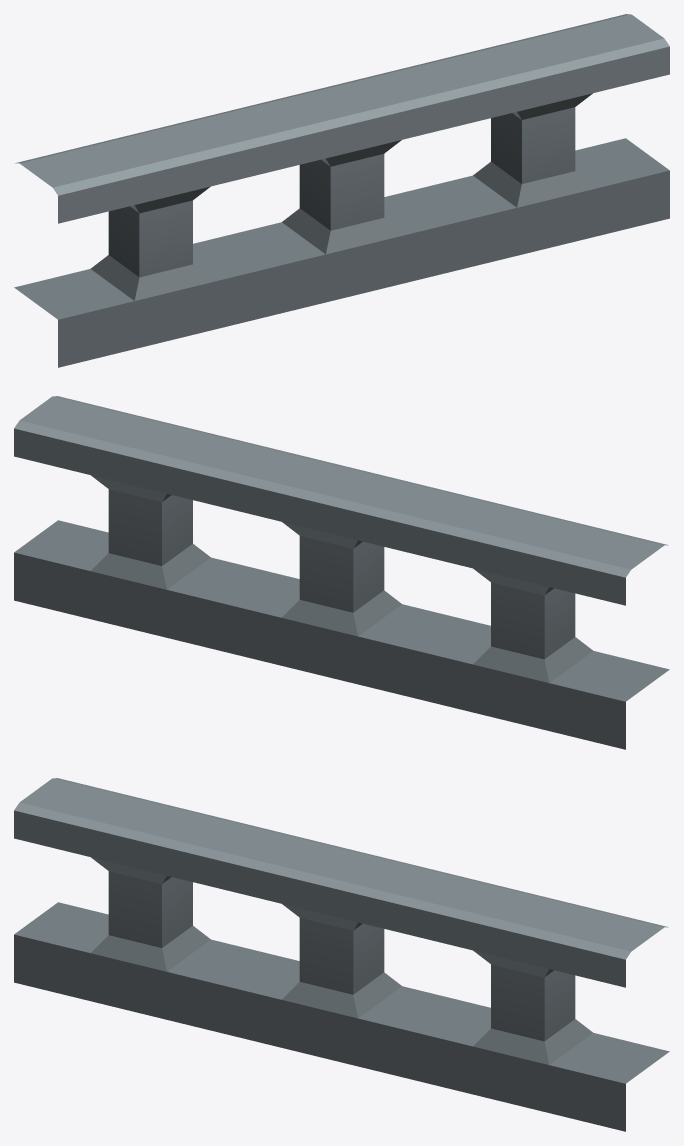
Rendered from barrier.gltf.
3 views of the same model, one above another, from view 1: azimuth 30°, elevation 25°; view 2: azimuth 150°, elevation 25°; view 3: azimuth 330°, elevation 25° (orthographic).
Visible parts, largest first — view 1: barrier; view 2: barrier; view 3: barrier.
Boxes of the visible parts, x1=… form: barrier: x1=14, y1=14, x2=669, y2=367; barrier: x1=14, y1=396, x2=669, y2=749; barrier: x1=14, y1=778, x2=669, y2=1131.
Size of the model in its own units: 4 by 1.1 by 0.5.
Materials: 1 (1 with a texture image).
